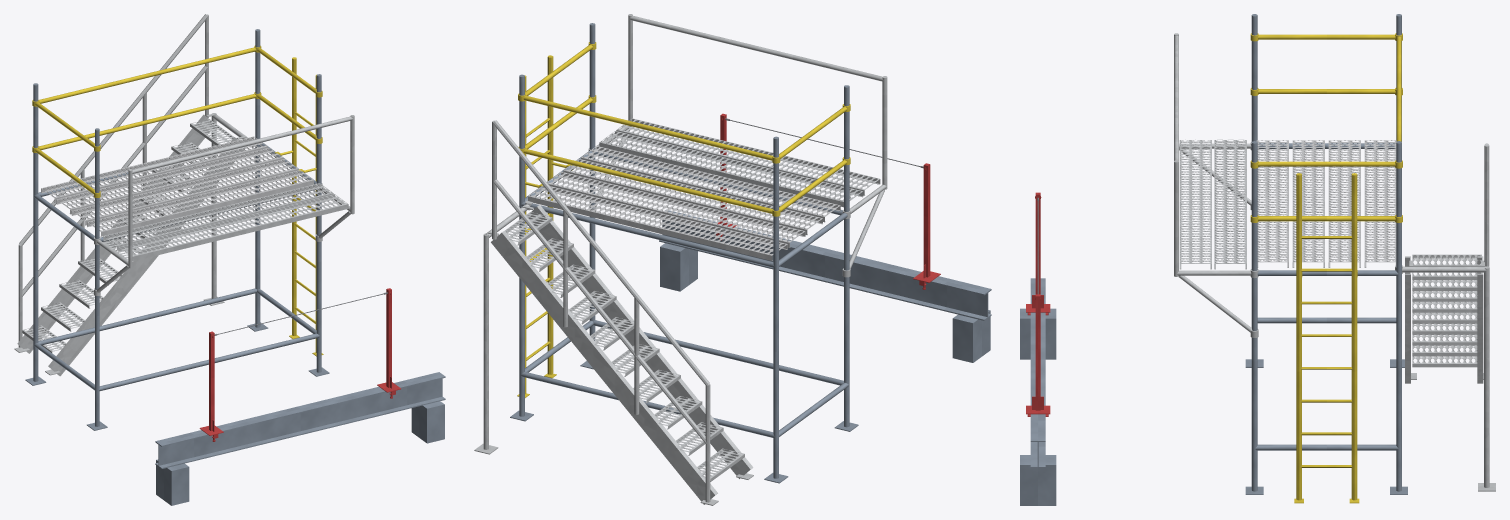
The model's file is scaffold-components.glb.
3 views of the same model, side by side, from view 1: azimuth 30°, elevation 25°; view 2: azimuth 150°, elevation 25°; view 3: azimuth 270°, elevation 25° (orthographic). The views are drawn at different scales.
Visible parts, largest first — view 1: Scaffold&Beam(context), Stairs, DeckPlanks(context), PlatformBrackets, Ladders, Handrails, Guiderails, BeamBrackets; view 2: Scaffold&Beam(context), Stairs, DeckPlanks(context), PlatformBrackets, Handrails, Guiderails, Ladders, BeamBrackets; view 3: Scaffold&Beam(context), DeckPlanks(context), Stairs, PlatformBrackets, Ladders, Handrails, BeamBrackets, Guiderails.
Part boxes in pixels (bbox=[...]): Scaffold&Beam(context): bbox=[25, 29, 445, 505]; Stairs: bbox=[14, 14, 254, 376]; DeckPlanks(context): bbox=[41, 136, 313, 236]; PlatformBrackets: bbox=[94, 115, 354, 295]; Ladders: bbox=[274, 57, 323, 356]; Handrails: bbox=[32, 45, 322, 151]; Guiderails: bbox=[32, 92, 322, 197]; BeamBrackets: bbox=[199, 288, 400, 441]; Scaffold&Beam(context): bbox=[510, 23, 991, 483]; Stairs: bbox=[474, 120, 753, 505]; DeckPlanks(context): bbox=[528, 146, 840, 260]; PlatformBrackets: bbox=[588, 14, 887, 277]; Handrails: bbox=[518, 42, 850, 163]; Guiderails: bbox=[518, 95, 850, 216]; Ladders: bbox=[517, 55, 572, 397]; BeamBrackets: bbox=[716, 113, 940, 289]; Scaffold&Beam(context): bbox=[1020, 14, 1407, 505]; DeckPlanks(context): bbox=[1256, 140, 1396, 267]; Stairs: bbox=[1395, 143, 1495, 491]; PlatformBrackets: bbox=[1174, 33, 1258, 337]; Ladders: bbox=[1294, 173, 1359, 503]; Handrails: bbox=[1250, 33, 1402, 168]; BeamBrackets: bbox=[1026, 192, 1050, 416]; Guiderails: bbox=[1250, 88, 1402, 222].
Size of the model in its own units: 3.2 by 3.24 by 3.95.
Materials: 6 (6 with a texture image).
